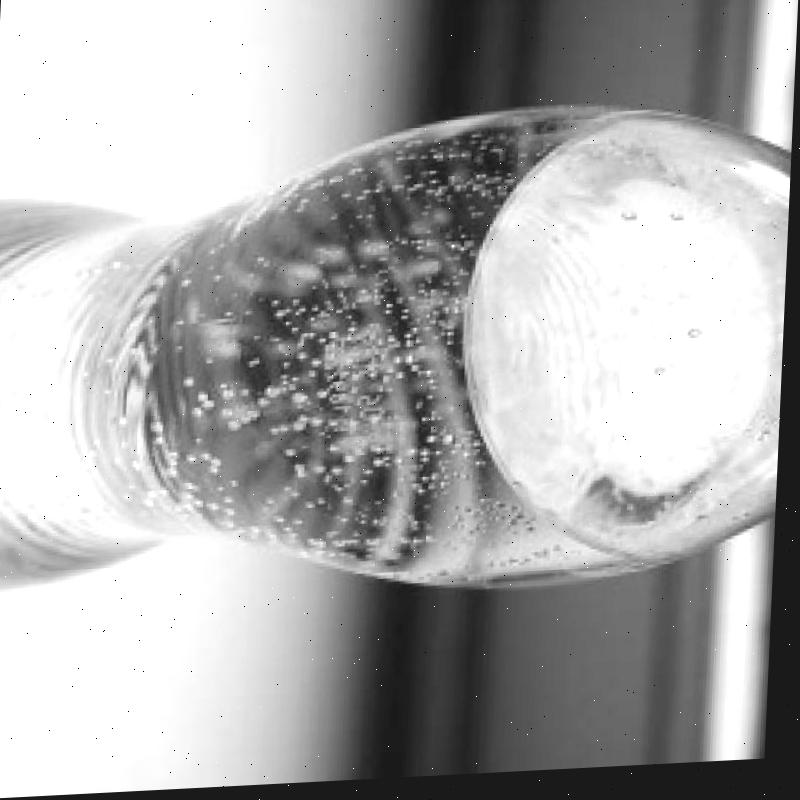botella: (0, 100, 795, 618)
